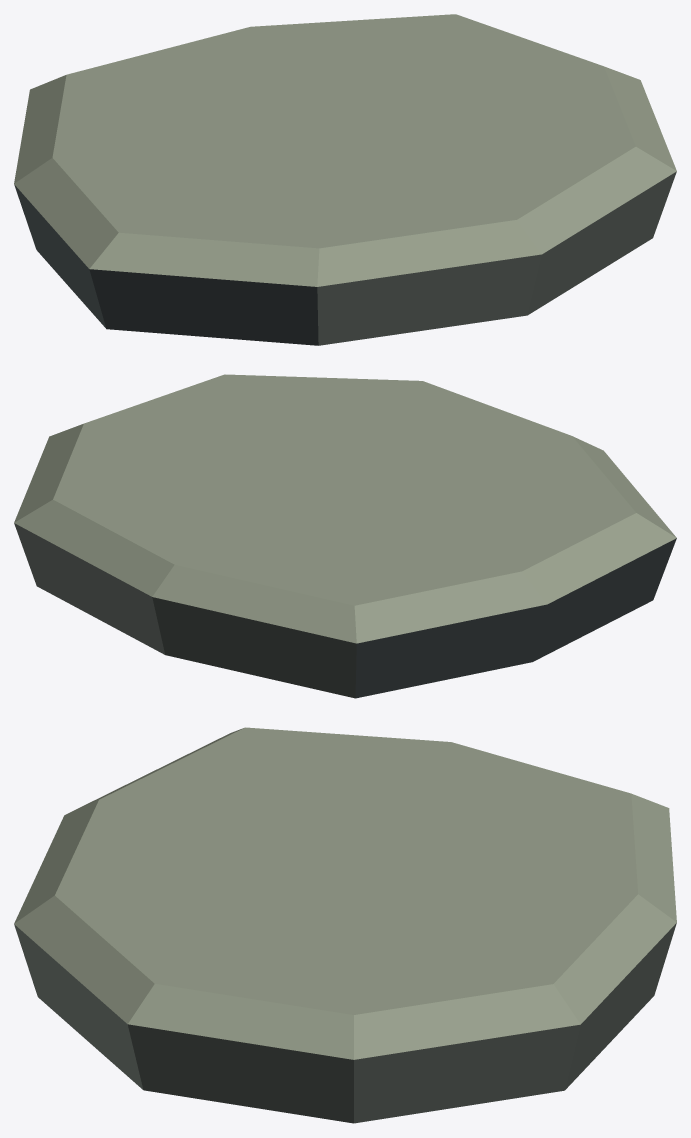
The model's file is TW_PAVER_ROUND_A_LOD0.glb.
3 renders of one model, top to bottom at view 1: azimuth 30°, elevation 25°; view 2: azimuth 150°, elevation 25°; view 3: azimuth 270°, elevation 25°, orthographic. The views are drawn at different scales.
Visible parts, largest first — view 1: TW_PAVER_ROUND_A_LOD0; view 2: TW_PAVER_ROUND_A_LOD0; view 3: TW_PAVER_ROUND_A_LOD0.
Boxes of the visible parts, x1=… form: TW_PAVER_ROUND_A_LOD0: x1=14, y1=14, x2=676, y2=345; TW_PAVER_ROUND_A_LOD0: x1=14, y1=374, x2=676, y2=698; TW_PAVER_ROUND_A_LOD0: x1=14, y1=727, x2=676, y2=1123.
Size of the model in its own units: 0.7 by 0.1 by 0.6.
Materials: 1 (1 with a texture image).
